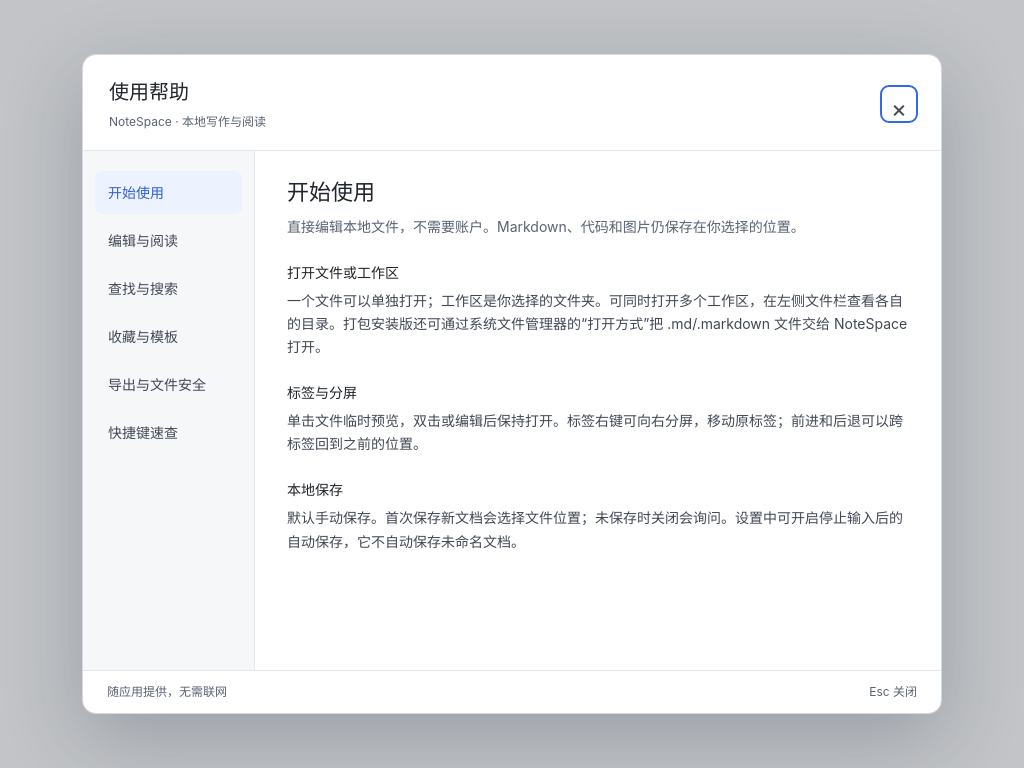
HelpDialog › switches help topics, exposes the selected topic, and resets only the content scroll
This screenshot has width=1024, height=768.
Expected: the heading "开始使用" is shown, [287,179,375,205]
Click the button "编辑与阅读" at (168, 240), box [95,219,242,262]
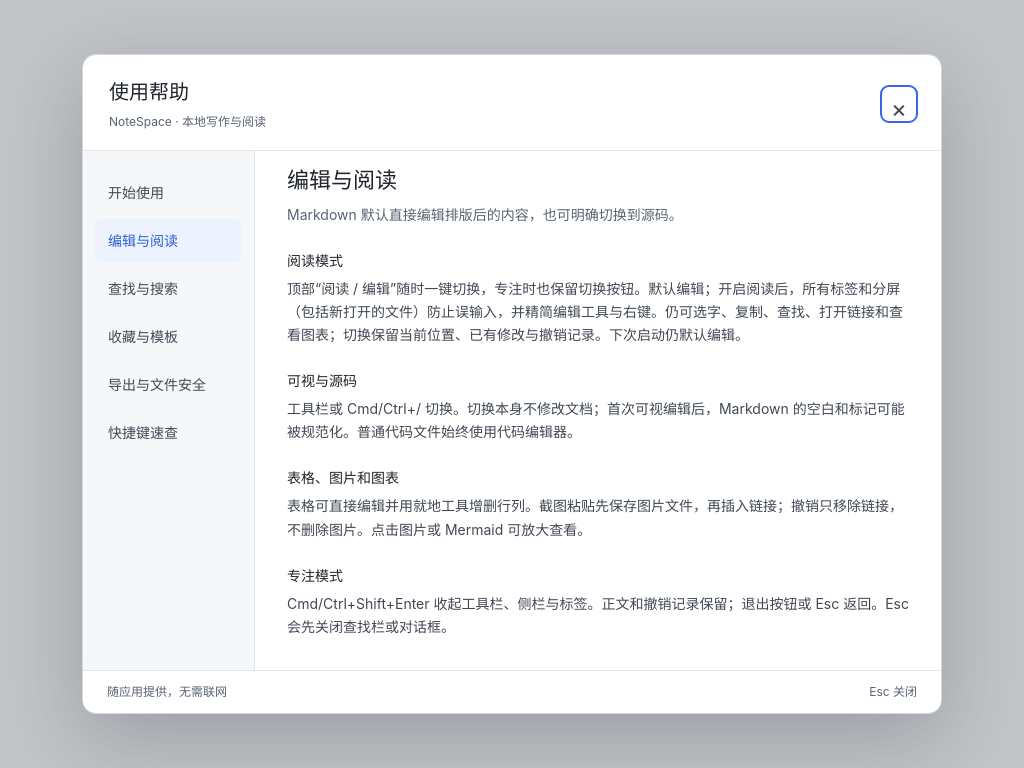
Now the heading "编辑与阅读" is shown, box [287,167,397,193]
Now the heading "表格、图片和图表" is shown, box [287,469,399,486]
Click the button "查找与搜索" at (168, 289), box [95,267,242,310]
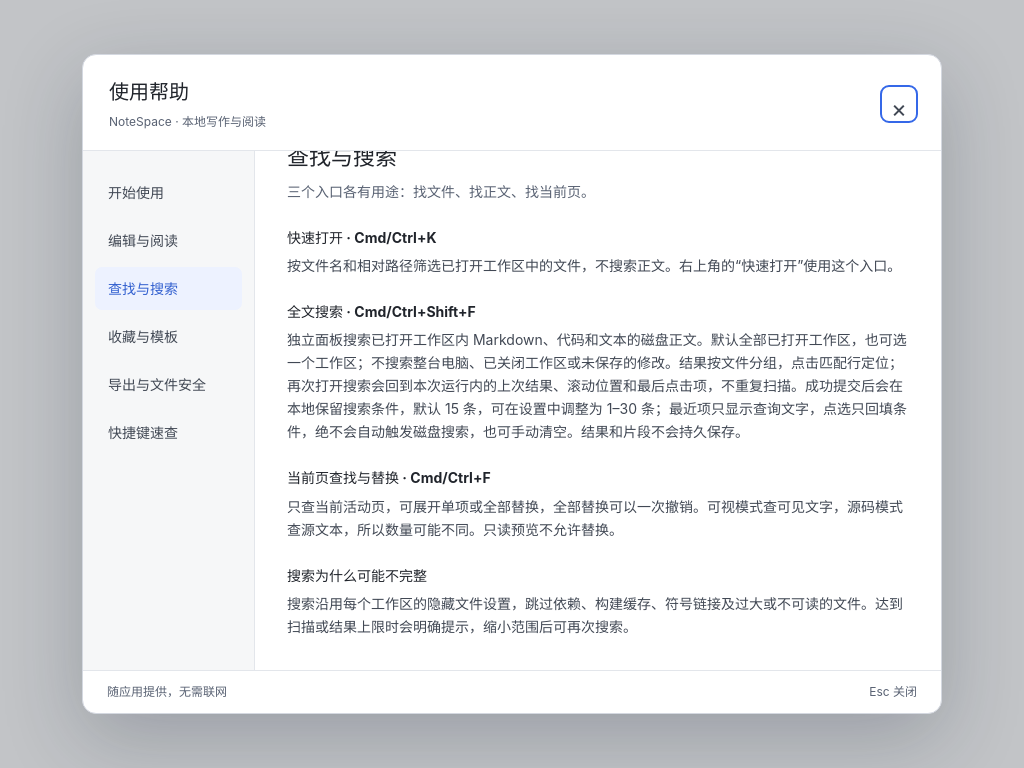
Now the heading "查找与搜索" is shown, box [287,151,397,170]
Now the heading "搜索为什么可能不完整" is shown, box [287,567,427,584]
Click the button "收藏与模板" at (168, 337), box [95,315,242,358]
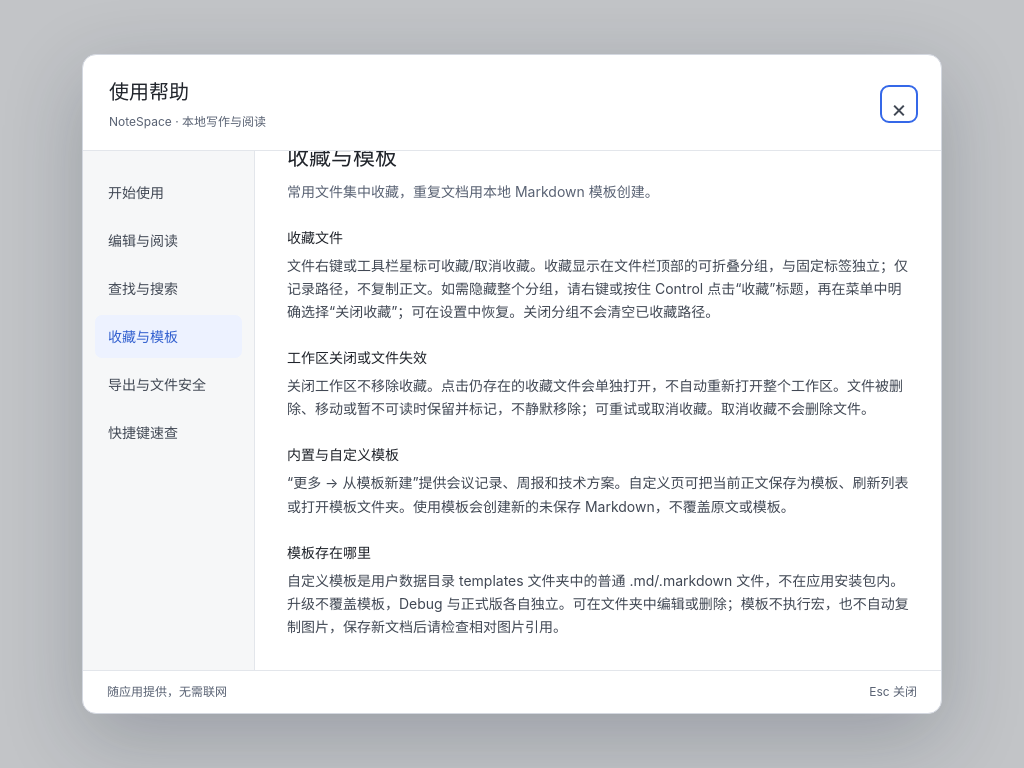
Now the heading "收藏与模板" is shown, box [287,151,397,170]
Now the heading "工作区关闭或文件失效" is shown, box [287,349,427,366]
Click the button "导出与文件安全" at (168, 385), box [95,363,242,406]
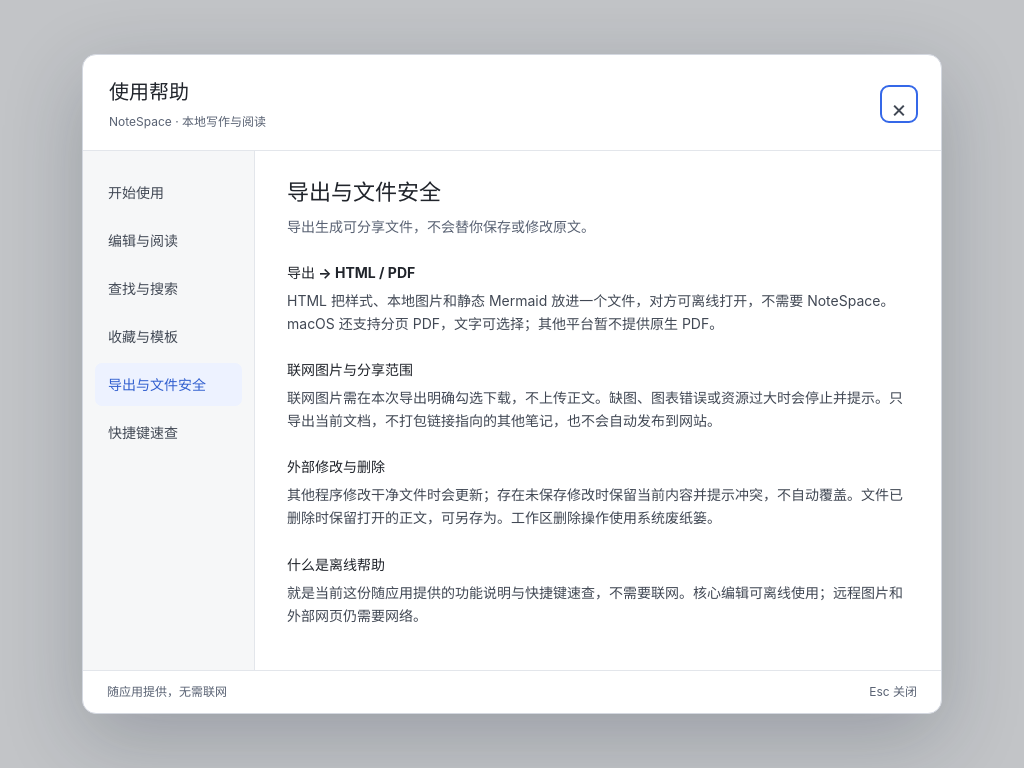
Expected: the text "随应用提供，无需联网" is shown, [107,684,227,699]
Now the heading "导出与文件安全" is shown, box [287,179,441,205]
Now the heading "什么是离线帮助" is shown, box [287,556,385,572]
